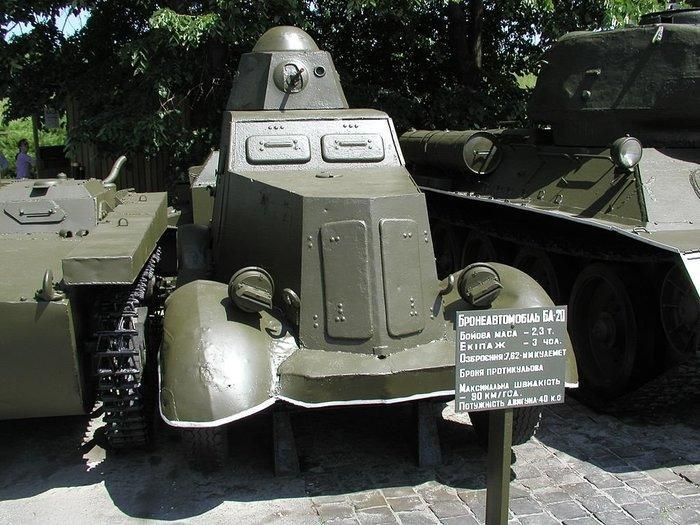MIL_IFV: (160, 26, 544, 479)
